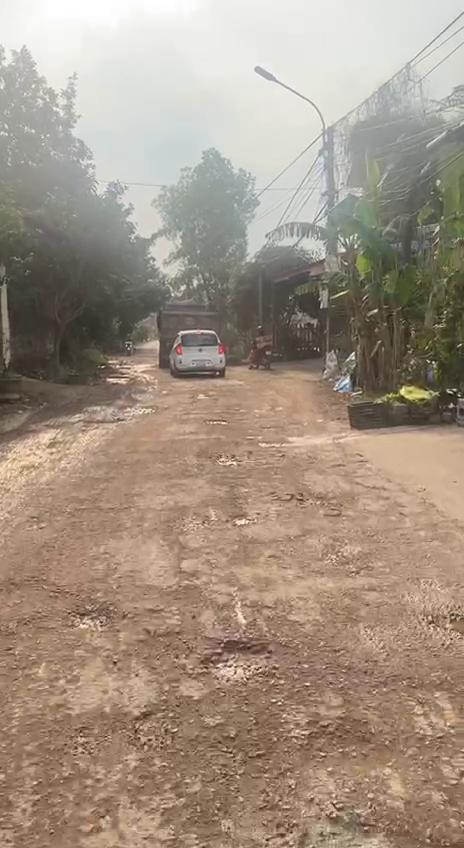pothole: (191, 637, 286, 684)
